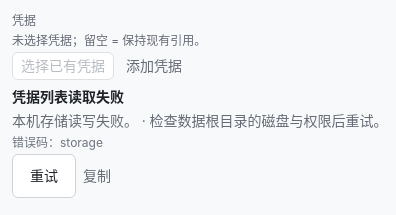
Scenario: CredentialField · 呈现（UC-094 A9） › 列表读取失败：错误面 + 重试（重试后恢复）
Check: the text "凭据列表读取失败" is shown, box 12,86 -> 124,108
Click the button "重试". click: (44, 176)
box: 12,154 -> 76,198
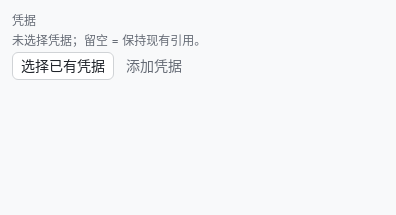
Check: the text "凭据列表读取失败" is gone
